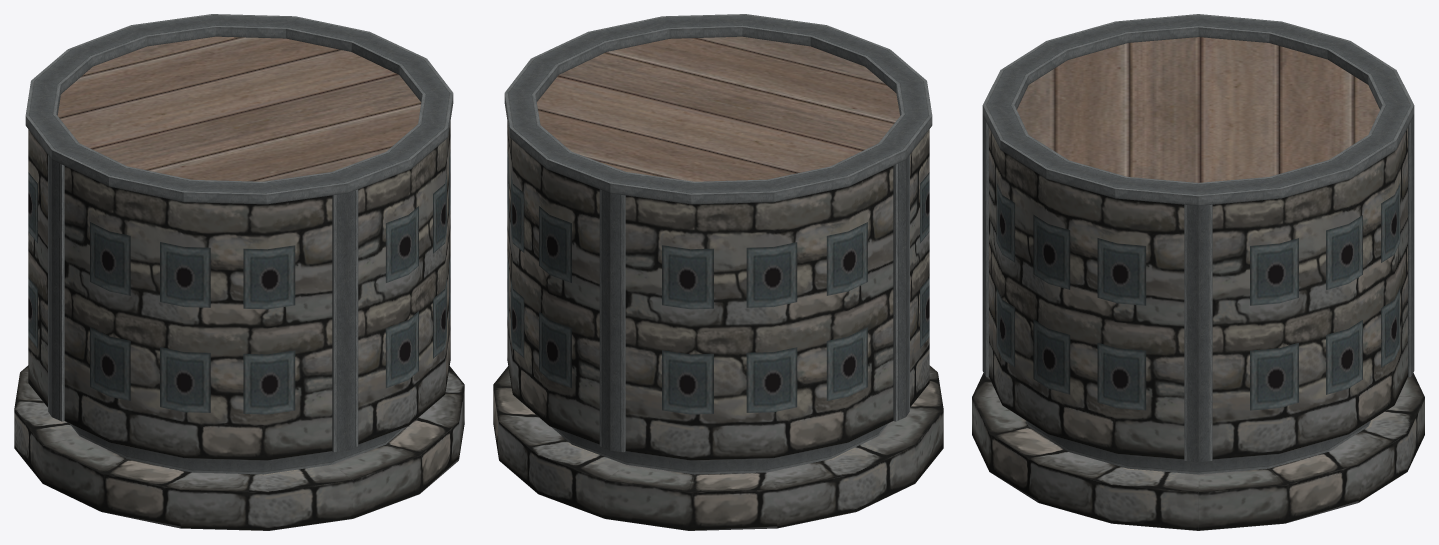
File: Arrow Battery.fbx
3 renders of one model, left to right at view 1: azimuth 30°, elevation 25°; view 2: azimuth 150°, elevation 25°; view 3: azimuth 270°, elevation 25°, orthographic.
Visible parts, largest first — view 1: polySurface5; view 2: polySurface5; view 3: polySurface5.
Boxes of the visible parts, x1=… form: polySurface5: x1=14, y1=14, x2=464, y2=530; polySurface5: x1=493, y1=14, x2=943, y2=530; polySurface5: x1=972, y1=14, x2=1424, y2=530.
Size of the model in its own units: 106 by 85.62 by 106.
Materials: 1 (1 with a texture image).
